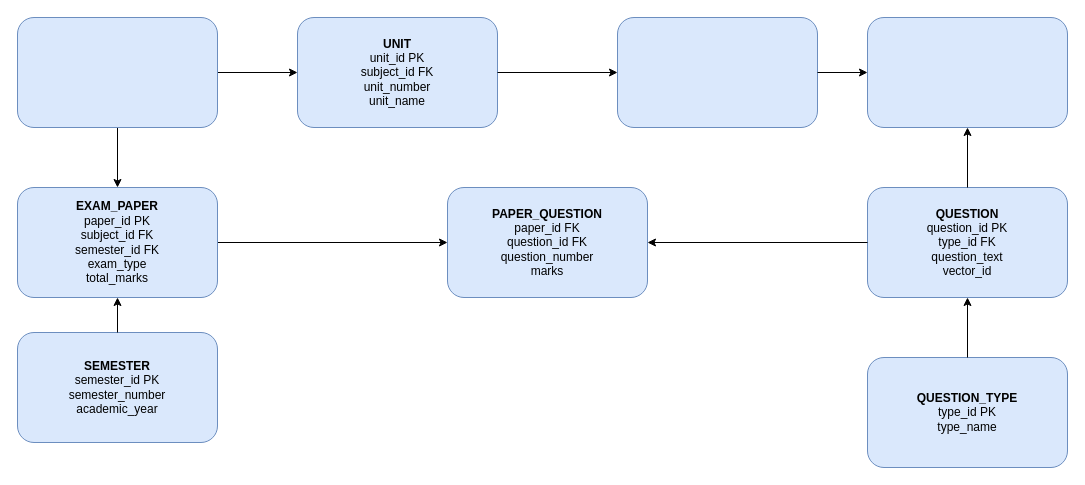
Image size: 1085x485. Some labels were removed from this diagram. Here are the shapes that lost their labels. From the top down, the box of each, then its label:
(16, 16, 218, 128): SUBJECT subject_id PK subject_code subject_name department
(616, 16, 818, 128): TOPIC topic_id PK unit_id FK topic_name
(866, 16, 1068, 128): QUESTION_TOPIC question_id FK topic_id FK
